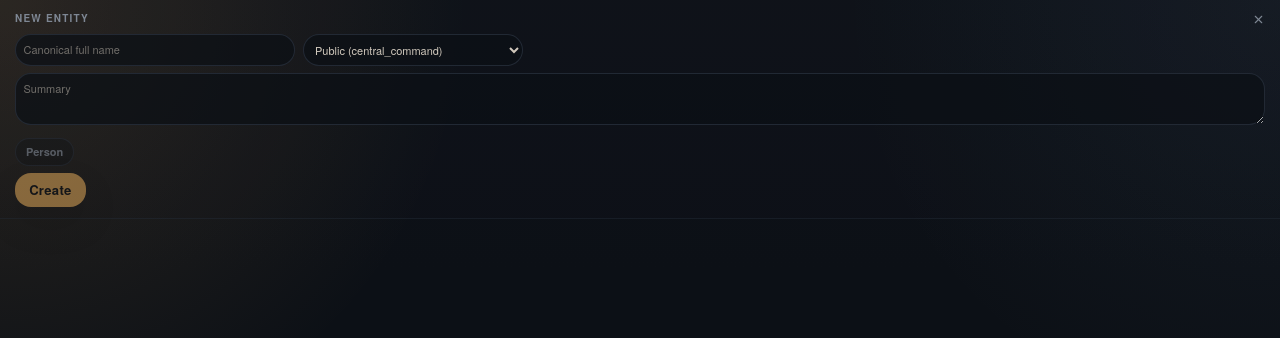
AddEntity › shows an embedder refusal and keeps the unsaved entry filled
Step 1. Type "Jane Doe" into the field named "New entity name" → x=155, y=50, box x1=15 y1=34 x2=295 y2=66
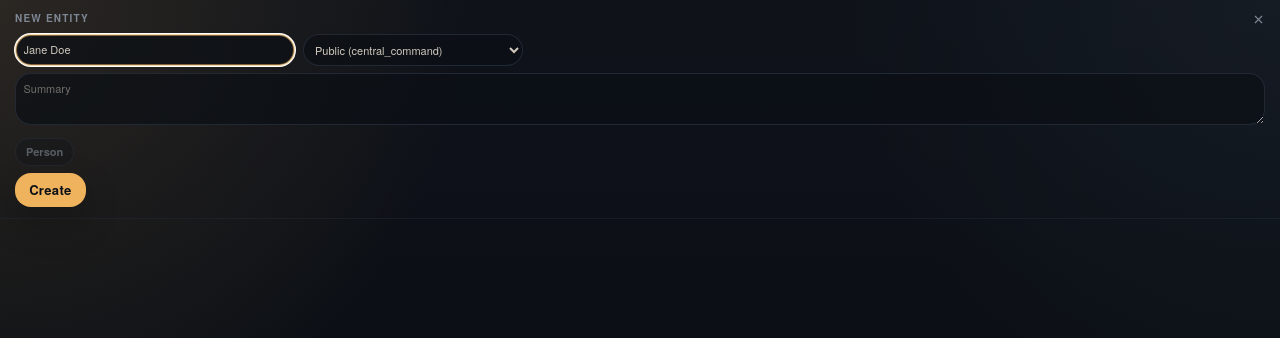
Step 2. Type "Works at Example Co" into the text box named "New entity summary" → x=640, y=99, box x1=15 y1=73 x2=1265 y2=125
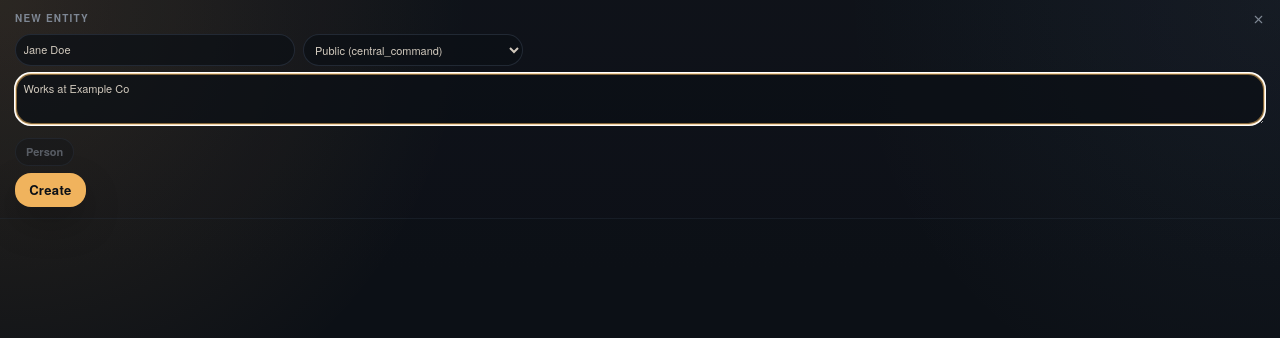
Step 3. Click the button "Person" → x=45, y=152, box x1=15 y1=138 x2=74 y2=166
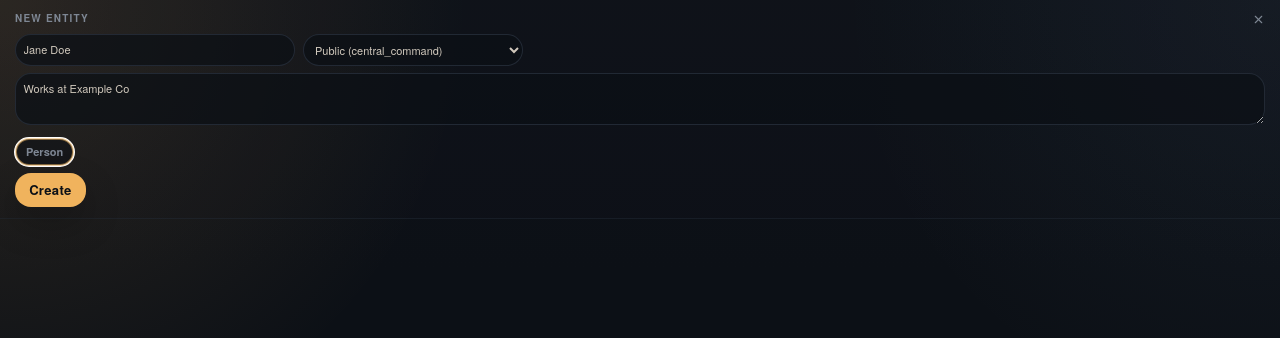
Step 4. Click the button "Create" → x=50, y=190, box x1=15 y1=173 x2=86 y2=207
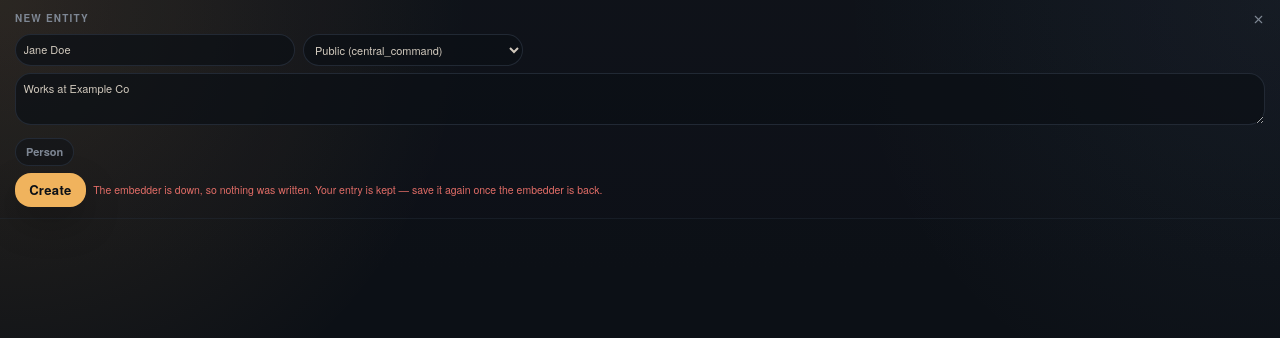
Result: the message shows "The embedder is down" at x1=93 y1=182 x2=602 y2=197
// One click once the embedder is back: the same entry, and then it clears.
Step 5. Click the button "Create" → x=50, y=190, box x1=15 y1=173 x2=86 y2=207
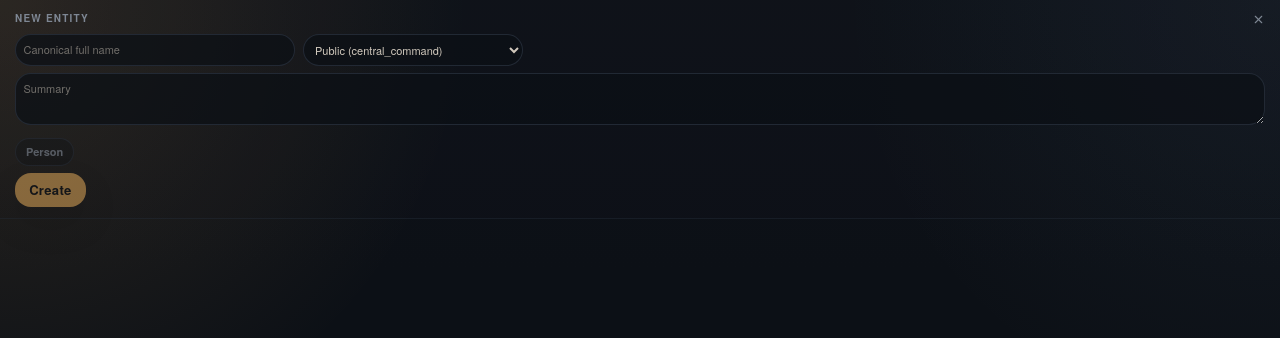
Result: the field named "New entity name" is empty at x1=15 y1=34 x2=295 y2=66
Result: the message is gone
